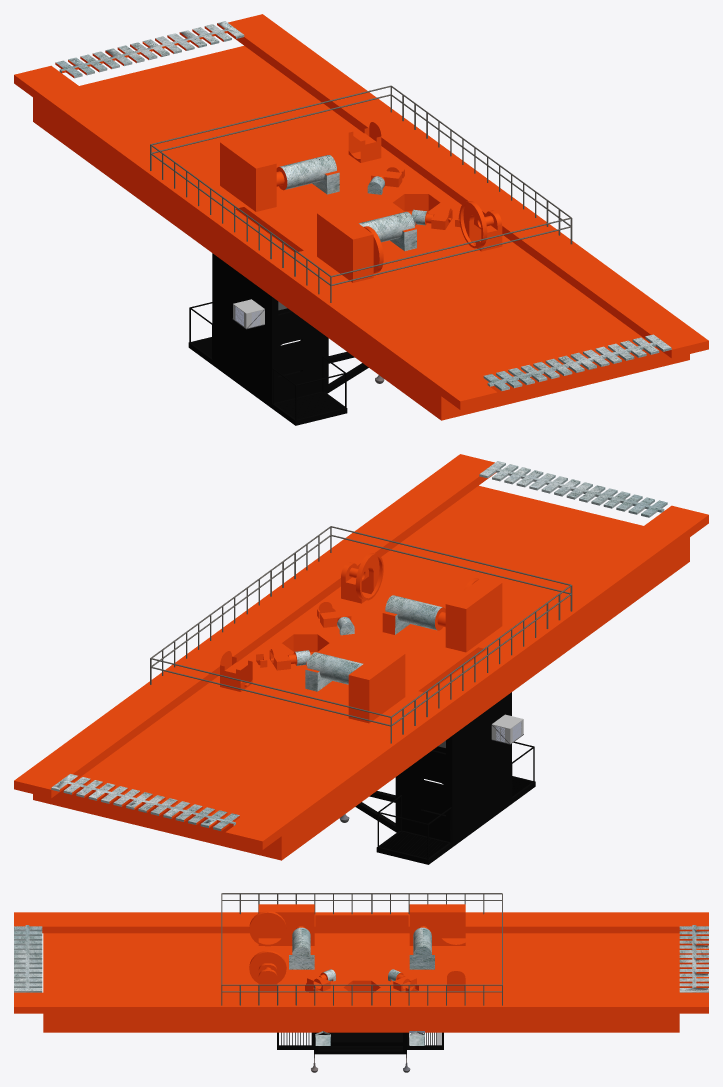
The model's file is Dummy.fbx.
3 views of the same model, one above another, from view 1: azimuth 30°, elevation 25°; view 2: azimuth 150°, elevation 25°; view 3: azimuth 270°, elevation 25° (orthographic). The views are drawn at different scales.
Visible parts, largest first — view 1: Dummy; view 2: Dummy; view 3: Dummy.
Part boxes in pixels (x1,y1,x2,y2): Dummy: [14, 14, 708, 425]; Dummy: [14, 454, 708, 864]; Dummy: [14, 893, 708, 1072].
Bounding box in the file's own units: 686 × 430 × 1865.
